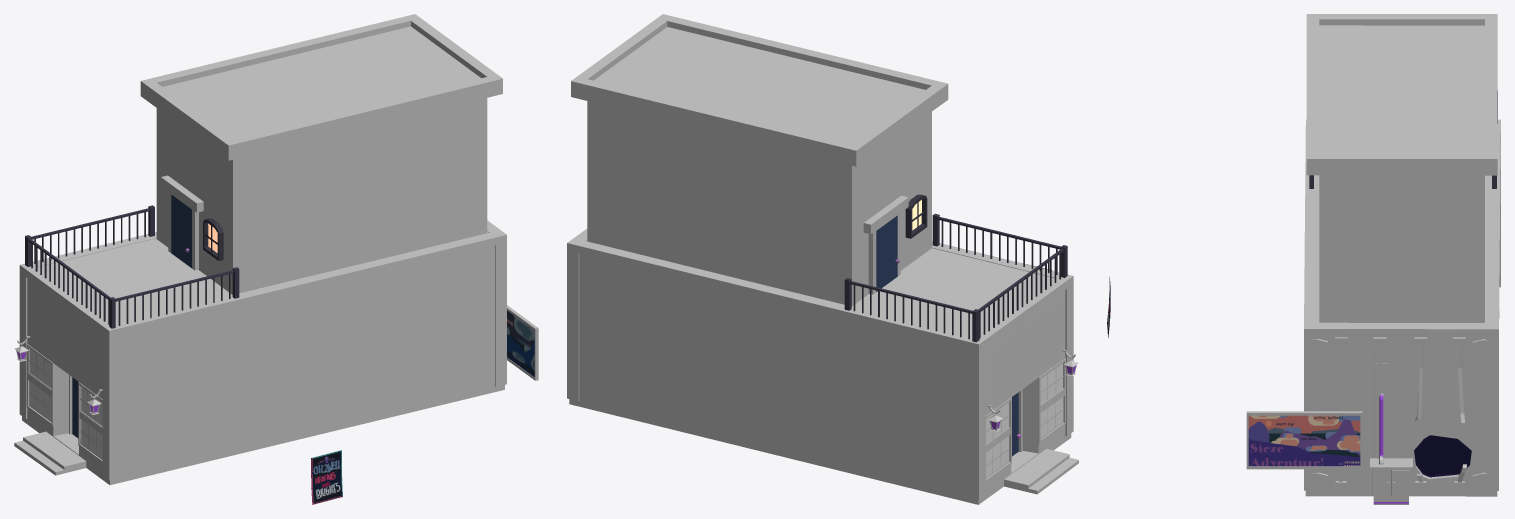
File: DBRockResearch.fbx
3 renders of one model, left to right at view 1: azimuth 30°, elevation 25°; view 2: azimuth 150°, elevation 25°; view 3: azimuth 270°, elevation 25°, orthographic. The views are drawn at different scales.
Parts seen in each view (by area): view 1: BoxCrate.242, BoxCrate.244, HangingSign, BigSign, BalconyRailing.082, Trailer_Steps.024, BalconyRailing.091, Poster.009, BalconyRailing.090, CornerHome_DoorFrame.075, CornerHome_Door.043, BuildingAddons.030; view 2: BoxCrate.242, BoxCrate.244, HangingSign, BalconyRailing.082, Trailer_Steps.024, BalconyRailing.090, BalconyRailing.091, CornerHome_DoorFrame.075, CornerHome_Door.043, BuildingAddons.030; view 3: BoxCrate.244, BoxCrate.242, BigSign, BoxCrate.247, JuiceBox.009, JuiceBoxDoor.007.
Boxes of the visible parts, x1,y1,x2,y2 form: BoxCrate.242: (19, 220, 506, 484); BoxCrate.244: (140, 14, 502, 294); HangingSign: (34, 293, 98, 388); BigSign: (507, 305, 538, 380); BalconyRailing.082: (25, 235, 115, 328); Trailer_Steps.024: (14, 431, 86, 475); BalconyRailing.091: (115, 267, 239, 325); Poster.009: (311, 450, 342, 504); BalconyRailing.090: (31, 205, 154, 263); CornerHome_DoorFrame.075: (161, 175, 203, 270); CornerHome_Door.043: (171, 194, 191, 268); BuildingAddons.030: (203, 218, 223, 260); BoxCrate.242: (567, 228, 1073, 504); BoxCrate.244: (571, 14, 948, 306); HangingSign: (993, 303, 1059, 402); BalconyRailing.082: (972, 245, 1067, 342); Trailer_Steps.024: (1004, 448, 1078, 494); BalconyRailing.090: (844, 278, 972, 339); BalconyRailing.091: (932, 213, 1060, 274); CornerHome_DoorFrame.075: (863, 195, 908, 294); CornerHome_Door.043: (876, 215, 899, 291); BuildingAddons.030: (905, 194, 927, 238); BoxCrate.244: (1306, 14, 1497, 322); BoxCrate.242: (1304, 119, 1500, 496); BigSign: (1246, 411, 1362, 469); BoxCrate.247: (1312, 337, 1488, 490); JuiceBox.009: (1370, 458, 1412, 504); JuiceBoxDoor.007: (1372, 470, 1391, 495).
Size of the model in its own units: 2715 by 1816 by 1925.
